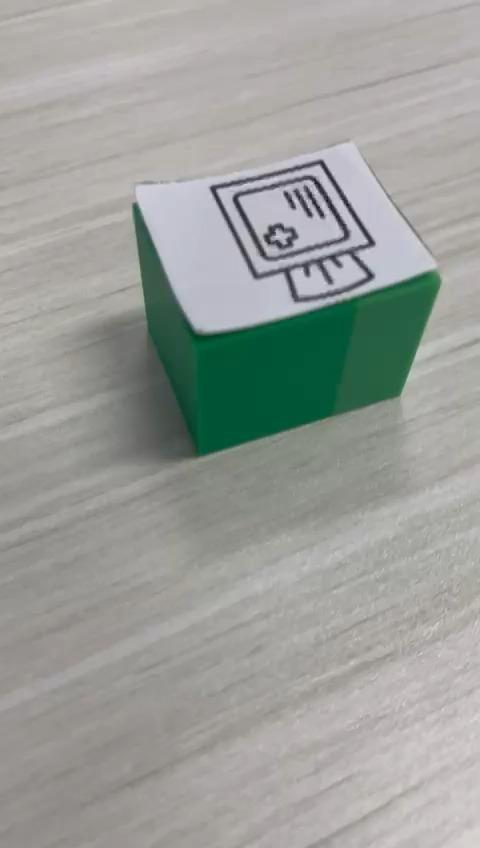Gauze: (130, 138, 442, 456)
